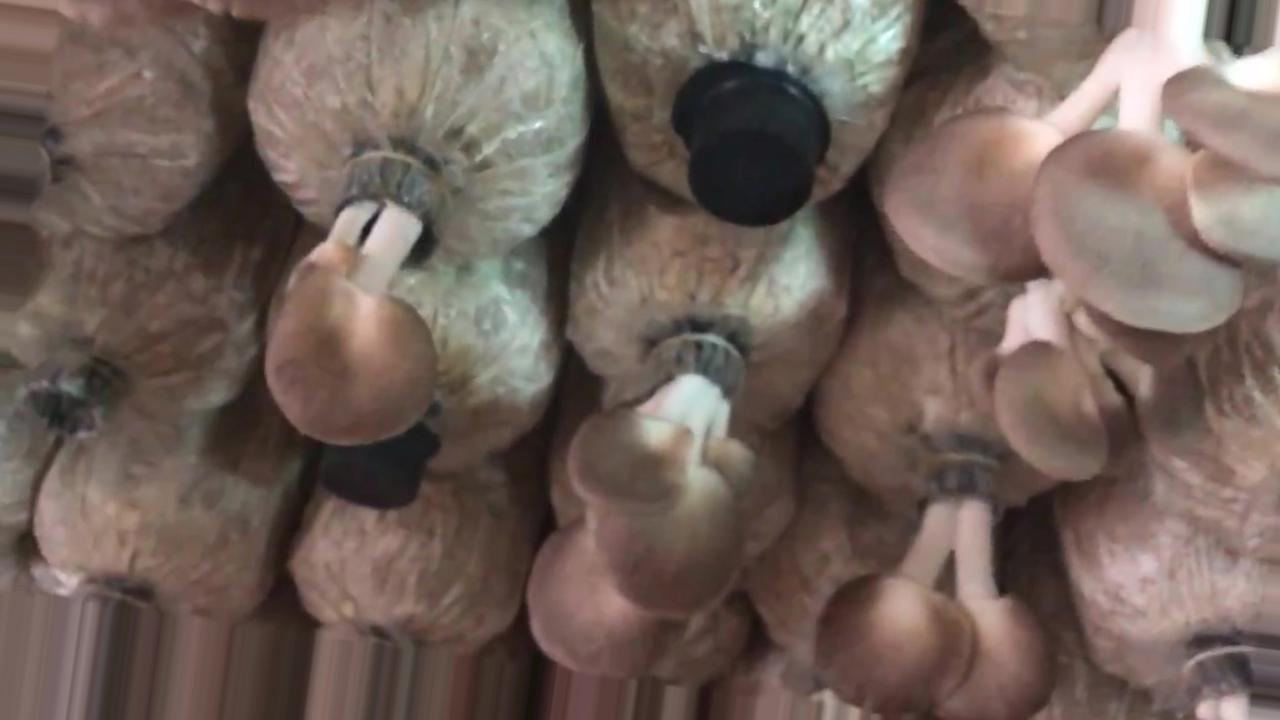nam: (886, 3, 1280, 333), (531, 340, 772, 678), (816, 456, 1052, 720), (261, 159, 449, 446), (966, 280, 1204, 480)
